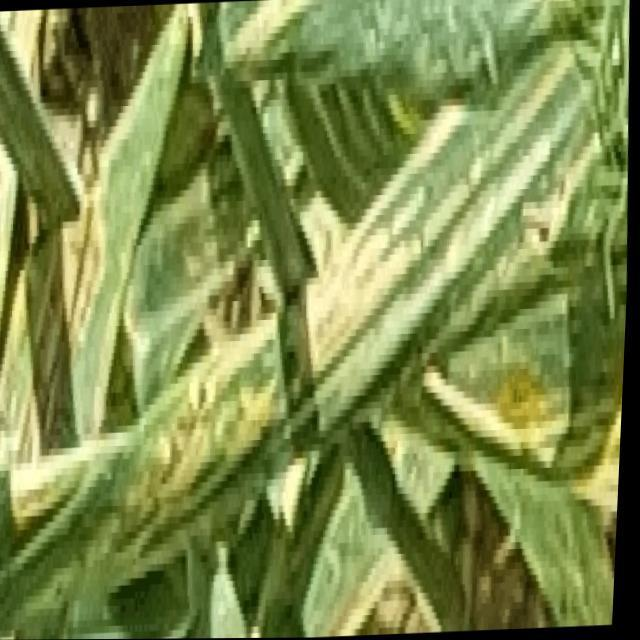Yellow_Rust: (4, 13, 591, 617)
